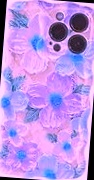iphone: (1, 1, 94, 180)
